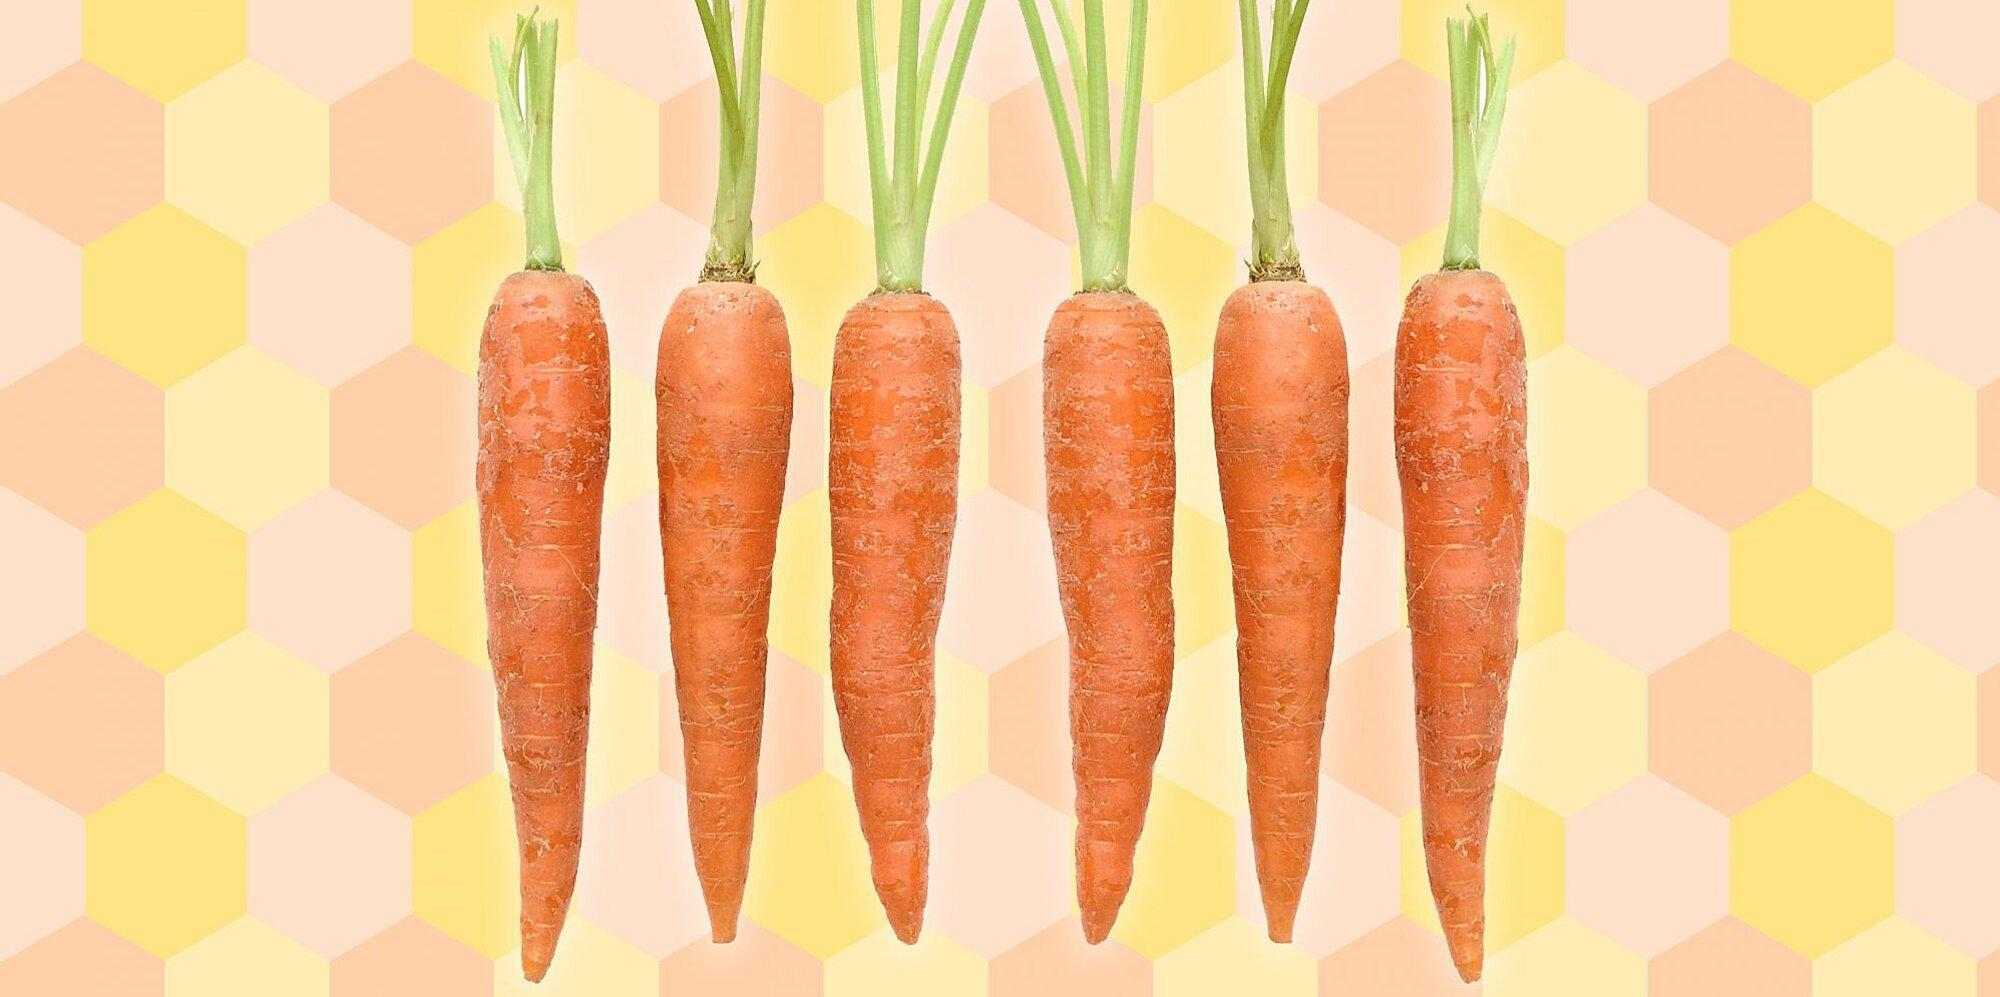carrot: (480, 173, 1524, 983), (1375, 254, 1557, 994), (821, 274, 996, 942), (469, 249, 628, 977), (1029, 261, 1181, 963), (1207, 261, 1341, 946), (672, 187, 784, 982)
